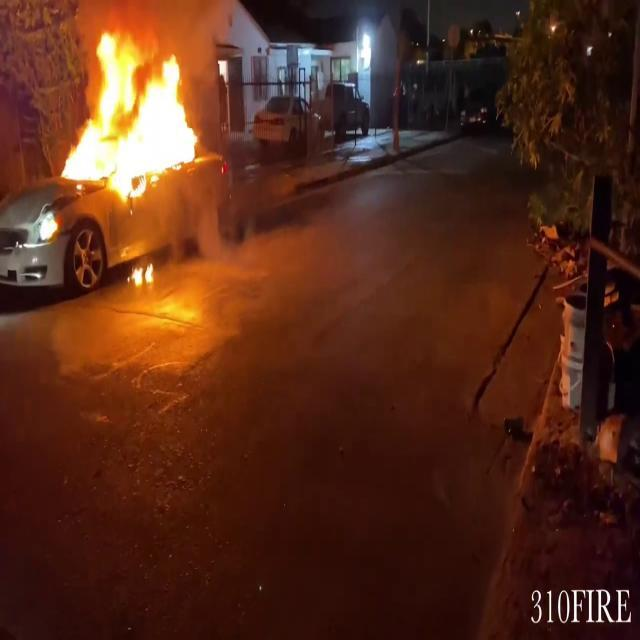Fire: (57, 24, 206, 200), (126, 253, 156, 291)
